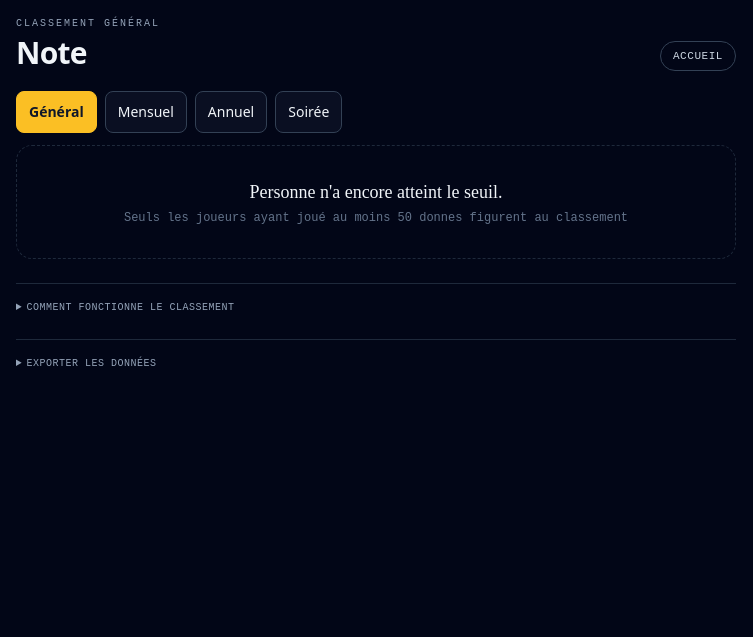
Test: Classement par soirée › additionne les parties jouées à moins de 24 h et laisse l'autre soirée à part
Click the button "Soirée".
click(309, 112)  # box x1=275 y1=91 x2=342 y2=133
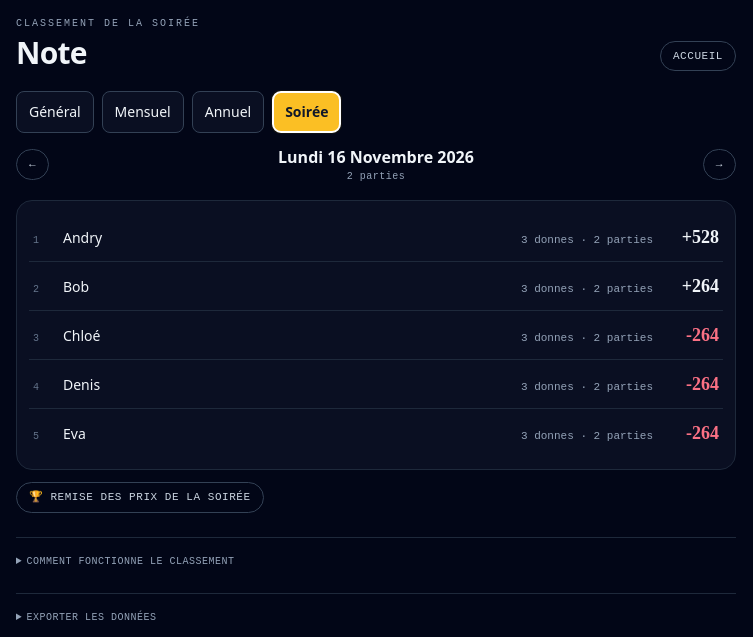
expect the element with test id "soiree-courante" shows "2 parties": met, box x1=278 y1=145 x2=474 y2=184
expect the number of elements with test id "soiree-row" is 5: met, box x1=29 y1=213 x2=723 y2=262; x1=29 y1=262 x2=723 y2=311; x1=29 y1=311 x2=723 y2=360; x1=29 y1=360 x2=723 y2=409; x1=33 y1=423 x2=719 y2=443
expect the element with test id "soiree-row" shows "Andry": met, box x1=63 y1=228 x2=102 y2=247
Click the button named "Soirée précédente".
click(33, 165)  # box x1=16 y1=149 x2=49 y2=180
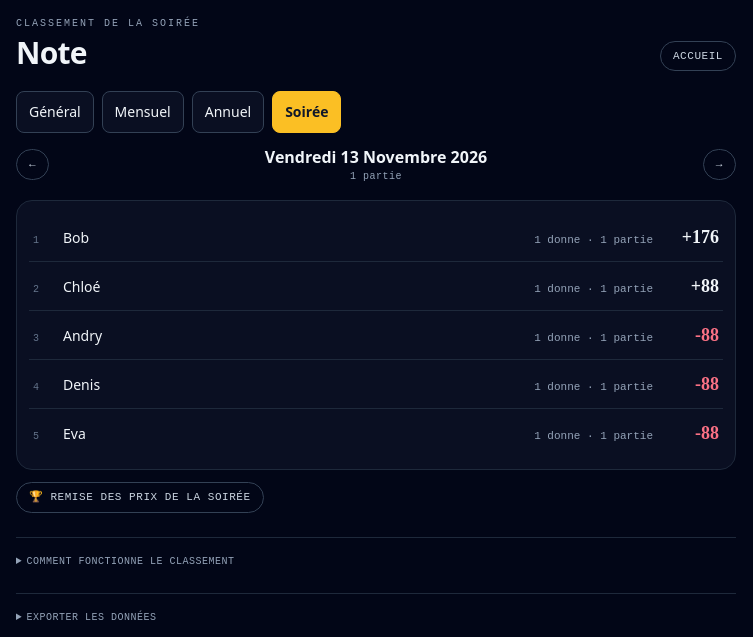
expect the element with test id "soiree-row" shows "Bob": met, box x1=63 y1=228 x2=89 y2=247
expect the element with test id "soiree-courante" shows "1 partie": met, box x1=265 y1=145 x2=487 y2=184
